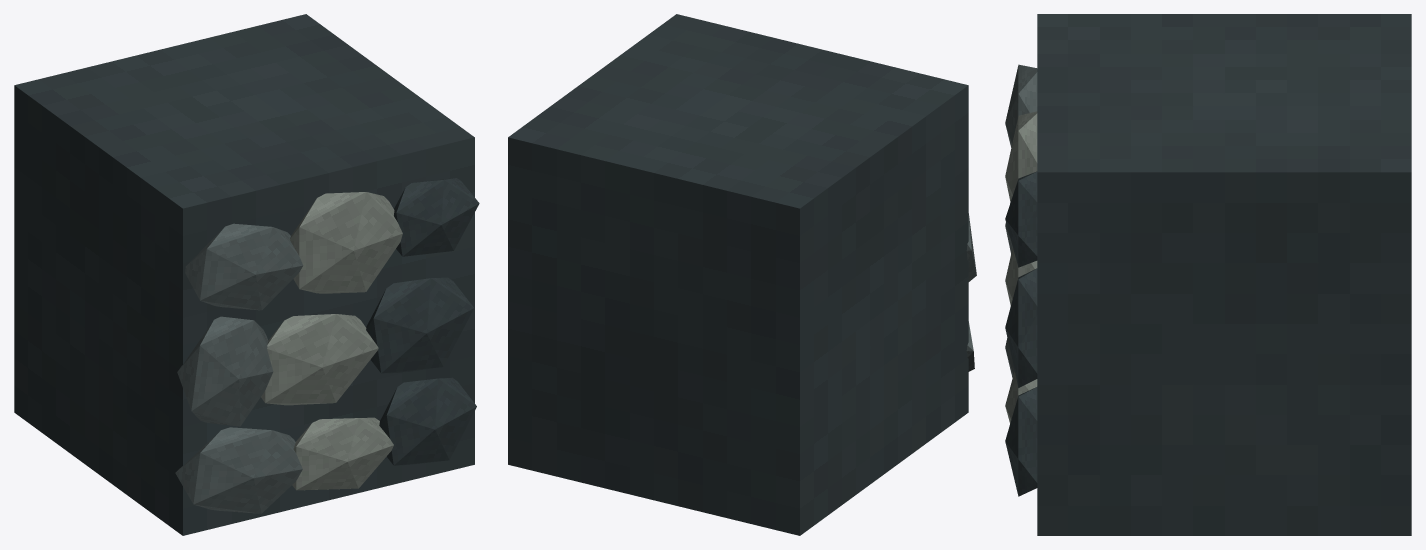
The model's file is bp_stoneblock.glb.
The picture shows the model from 3 angles, left to right: view 1: azimuth 30°, elevation 25°; view 2: azimuth 150°, elevation 25°; view 3: azimuth 270°, elevation 25°; orthographic projection. The views are drawn at different scales.
Visible parts, largest first — view 1: stone_mortar, stone_face.007, stone_face.004, stone_face, stone_face.005, stone_face.003, stone_face.006, stone_face.002, stone_face.001, stone_face.008; view 2: stone_mortar; view 3: stone_mortar, stone_face.005, stone_face.002, stone_face.008, stone_face.007, stone_face.006, stone_face.004, stone_face.001.
Boxes of the visible parts, box(x1,y1,x2,y2) form: stone_mortar: box(14, 14, 474, 535); stone_face.007: box(289, 192, 402, 293); stone_face.004: box(261, 314, 378, 405); stone_face: box(175, 427, 302, 513); stone_face.005: box(366, 277, 473, 373); stone_face.003: box(177, 316, 273, 426); stone_face.006: box(185, 223, 303, 310); stone_face.002: box(379, 377, 476, 465); stone_face.001: box(292, 417, 393, 490); stone_face.008: box(394, 178, 479, 256); stone_mortar: box(508, 14, 968, 535); stone_mortar: box(1037, 14, 1411, 535); stone_face.005: box(1005, 268, 1037, 387); stone_face.002: box(1005, 387, 1037, 496); stone_face.008: box(1005, 171, 1037, 267); stone_face.007: box(1005, 111, 1037, 202); stone_face.006: box(1005, 64, 1037, 147); stone_face.004: box(1005, 247, 1037, 305); stone_face.001: box(1005, 371, 1037, 423).
Size of the model in its own units: 1.43 by 1.5 by 1.52.
3 materials, 3 textured.
